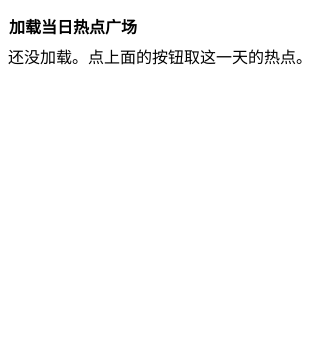
Test: DemoFlow · 没取过数 ≠ 没有数据（`REDESIGN-03`） › 点了加载之后那句「还没加载」就不在了
Click the button "加载当日热点广场" at (73, 26), box [8,8,138,44]
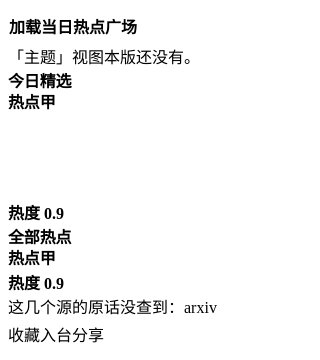
Check: the element showing "热点甲 热度 0.9" is shown, box [8,94,64,222]
